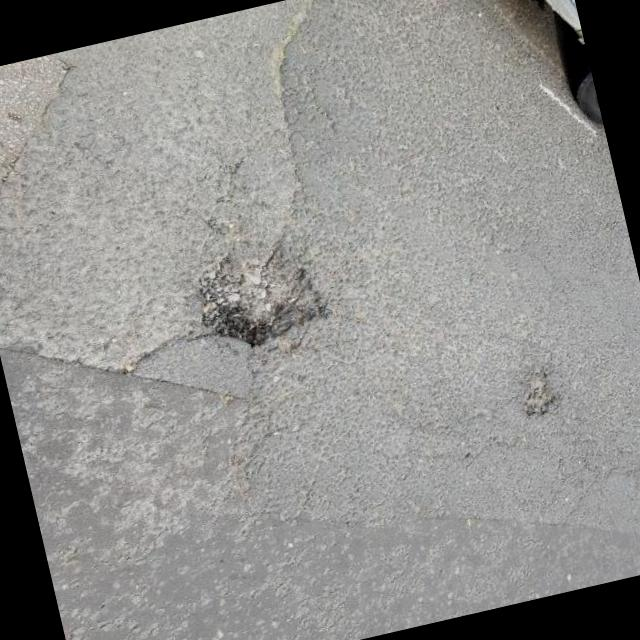pothole: (182, 244, 348, 364)
